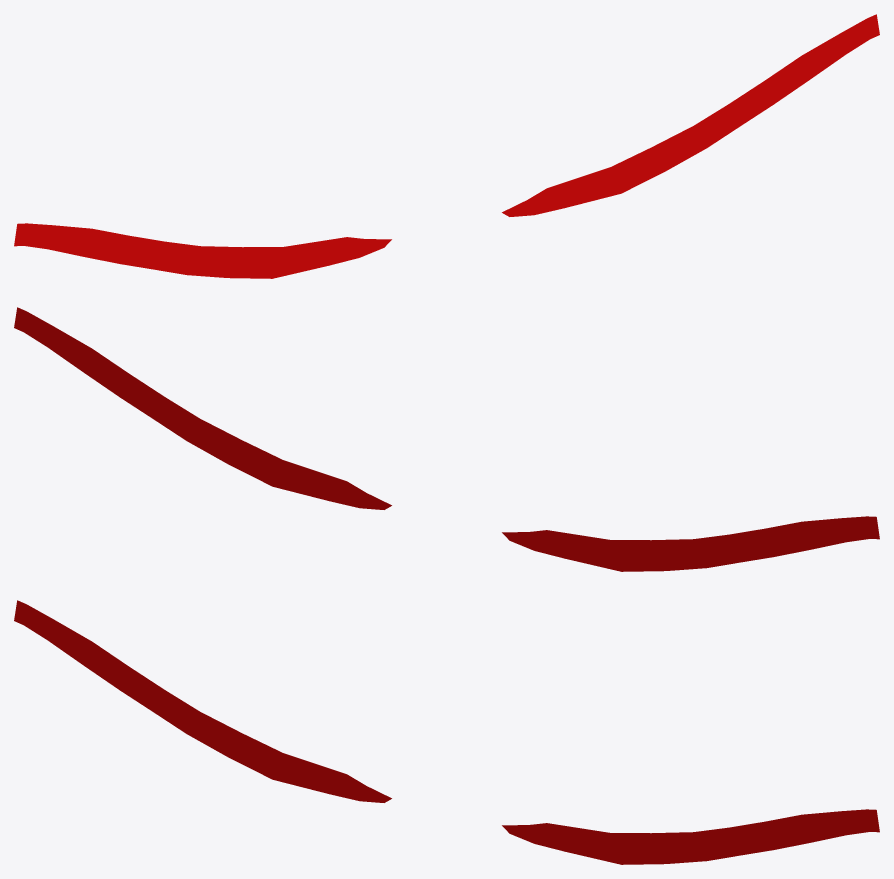
File: frame141.fbx
3 renders of one model, top to bottom at view 1: azimuth 30°, elevation 25°; view 2: azimuth 150°, elevation 25°; view 3: azimuth 330°, elevation 25°, orthographic.
Visible parts, largest first — view 1: MaterialLayer; view 2: MaterialLayer; view 3: MaterialLayer.
Boxes of the visible parts, left/top/right/bottom form: MaterialLayer: left=14, top=14, right=879, bottom=278; MaterialLayer: left=14, top=307, right=879, bottom=571; MaterialLayer: left=14, top=600, right=879, bottom=864.
Bounding box in the file's own units: 1455 × 189 × 0.
